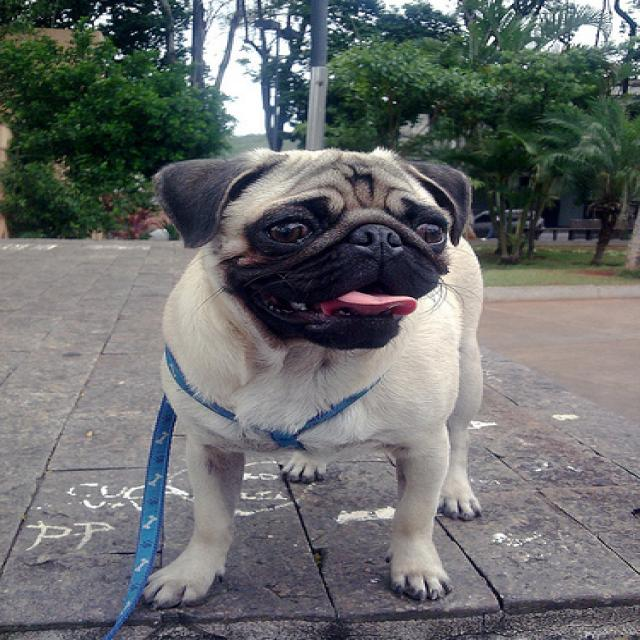dog-pug: (131, 142, 500, 614)
